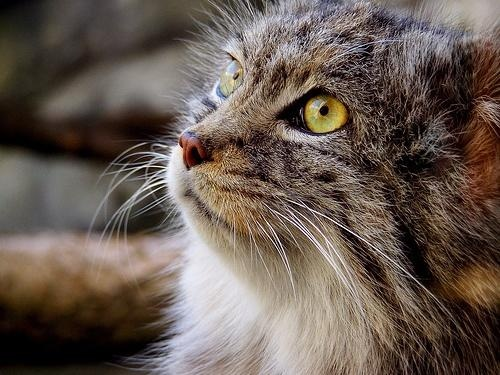cat: (135, 3, 497, 375)
